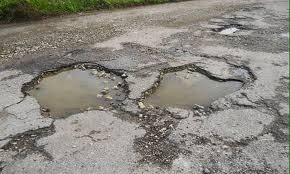pothole: (19, 56, 137, 126), (137, 59, 255, 124), (214, 19, 250, 41)
